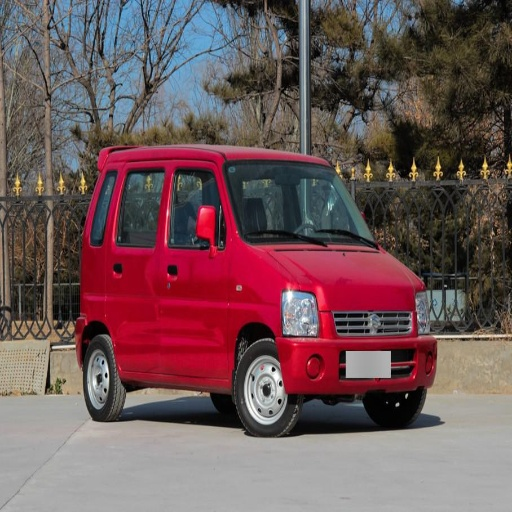front_bumper: (276, 309, 436, 395)
front_right_door: (160, 164, 230, 376)
front_right_light: (280, 288, 322, 337)
